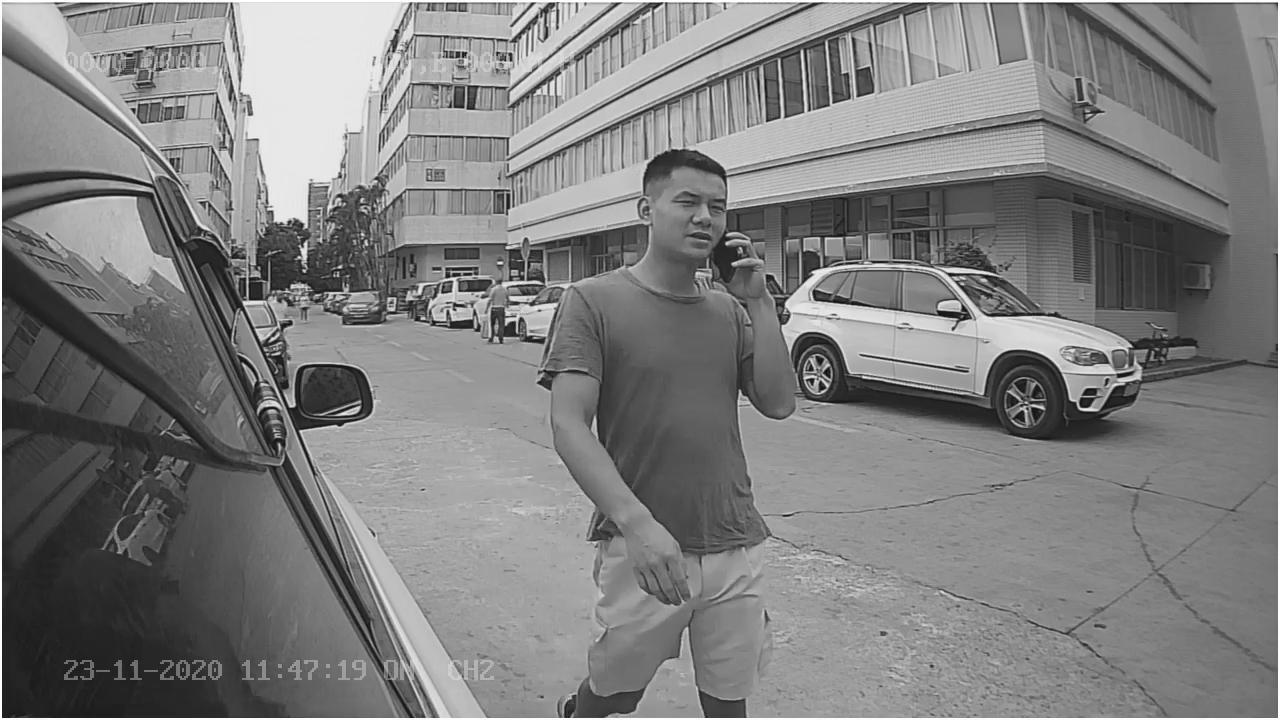person: (542, 144, 800, 639)
